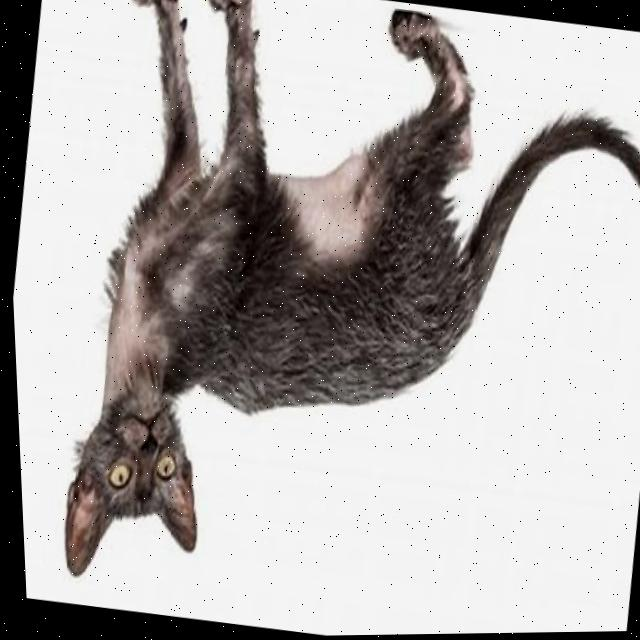Lykoi: (30, 0, 640, 640)
